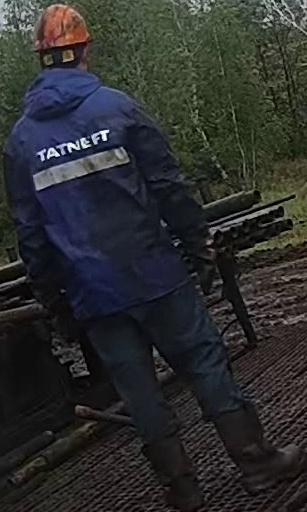gloves: (186, 226, 227, 295)
helmet: (31, 3, 91, 59)
vest: (2, 67, 194, 321)
